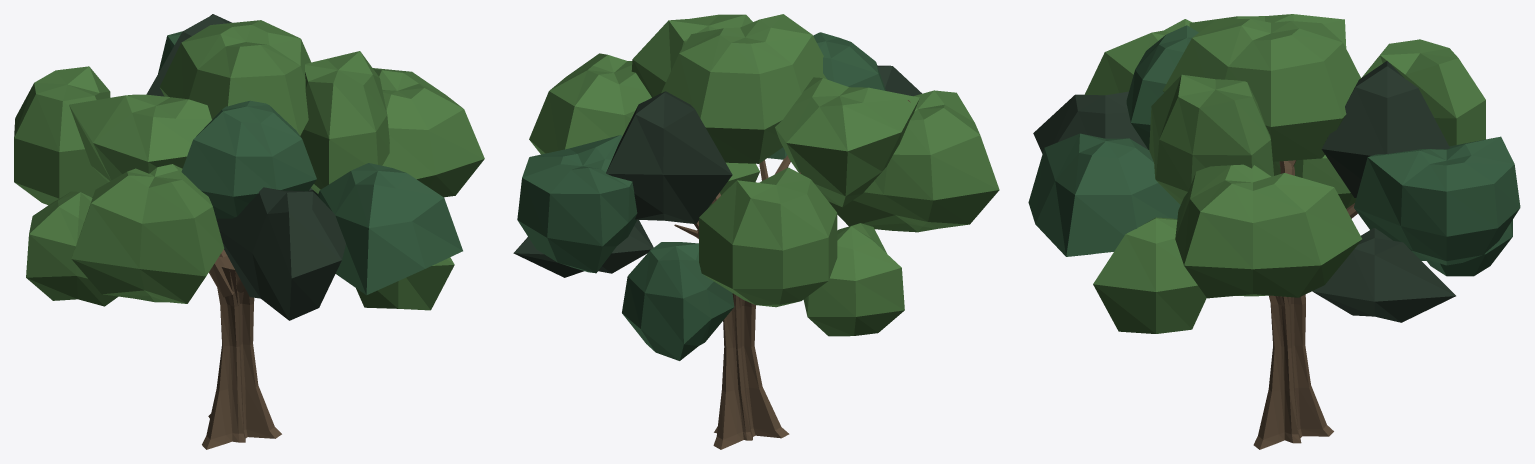
The model's file is cherry-tree-a710a9.glb.
3 renders of one model, left to right at view 1: azimuth 30°, elevation 25°; view 2: azimuth 150°, elevation 25°; view 3: azimuth 270°, elevation 25°, orthographic. The views are drawn at different scales.
Visible parts, largest first — view 1: crown, bole; view 2: crown, bole; view 3: crown, bole.
Part boxes in pixels (box(x1,y1,x2,y2)): crown: box(14, 14, 484, 320); bole: box(202, 255, 281, 449); crown: box(513, 14, 999, 360); bole: box(713, 293, 789, 449); crown: box(1028, 14, 1520, 333); bole: box(1253, 294, 1333, 449).
Size of the model in its own units: 5.99 by 5.5 by 5.99.
